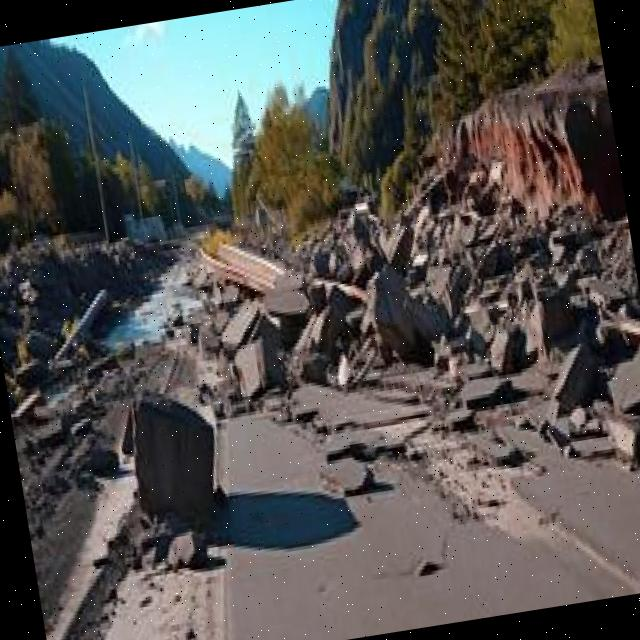road collapse: (4, 99, 640, 640)
